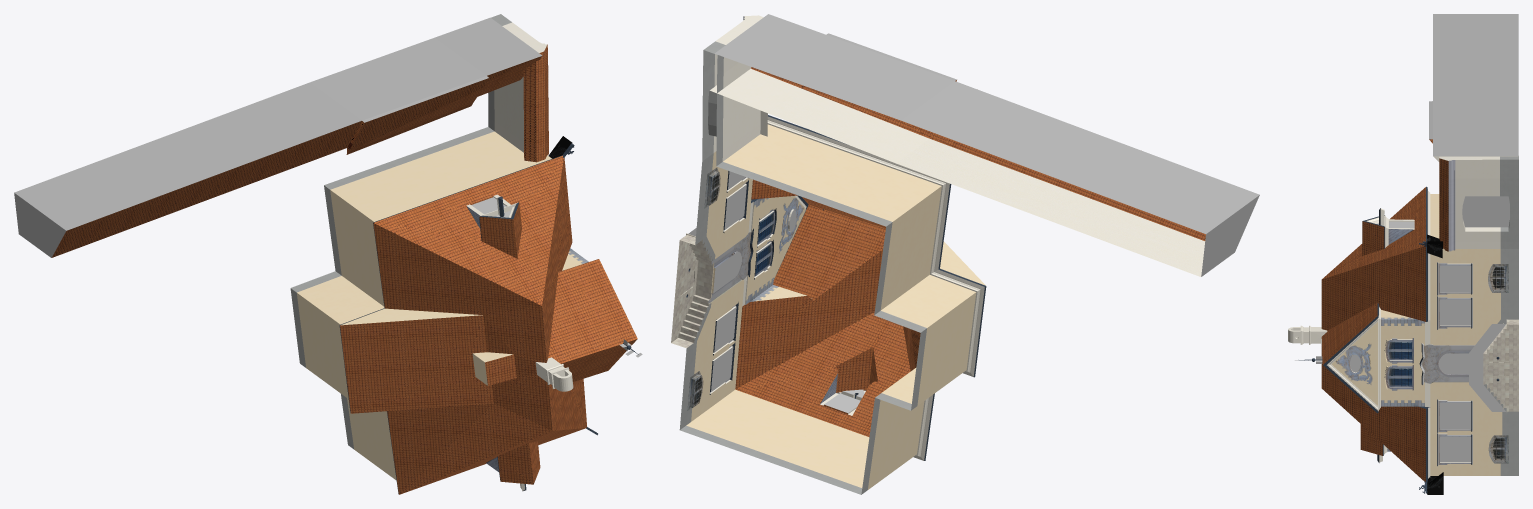
The model's file is Uus_15-1.obj.
3 renders of one model, left to right at view 1: azimuth 30°, elevation 25°; view 2: azimuth 150°, elevation 25°; view 3: azimuth 270°, elevation 25°, orthographic. The views are drawn at different scales.
Parts seen in each view (by area): view 1: Uus15_1, xxx; view 2: Uus15_1, xxx; view 3: Uus15_1, xxx.
Part boxes in pixels (x1,y1,x2,y2): Uus15_1: [52, 14, 642, 494]; xxx: [14, 17, 542, 257]; Uus15_1: [671, 15, 1205, 494]; xxx: [715, 14, 1259, 276]; Uus15_1: [1288, 139, 1518, 494]; xxx: [1429, 14, 1518, 156].
Size of the model in its own units: 31.26 by 22.74 by 14.45.
